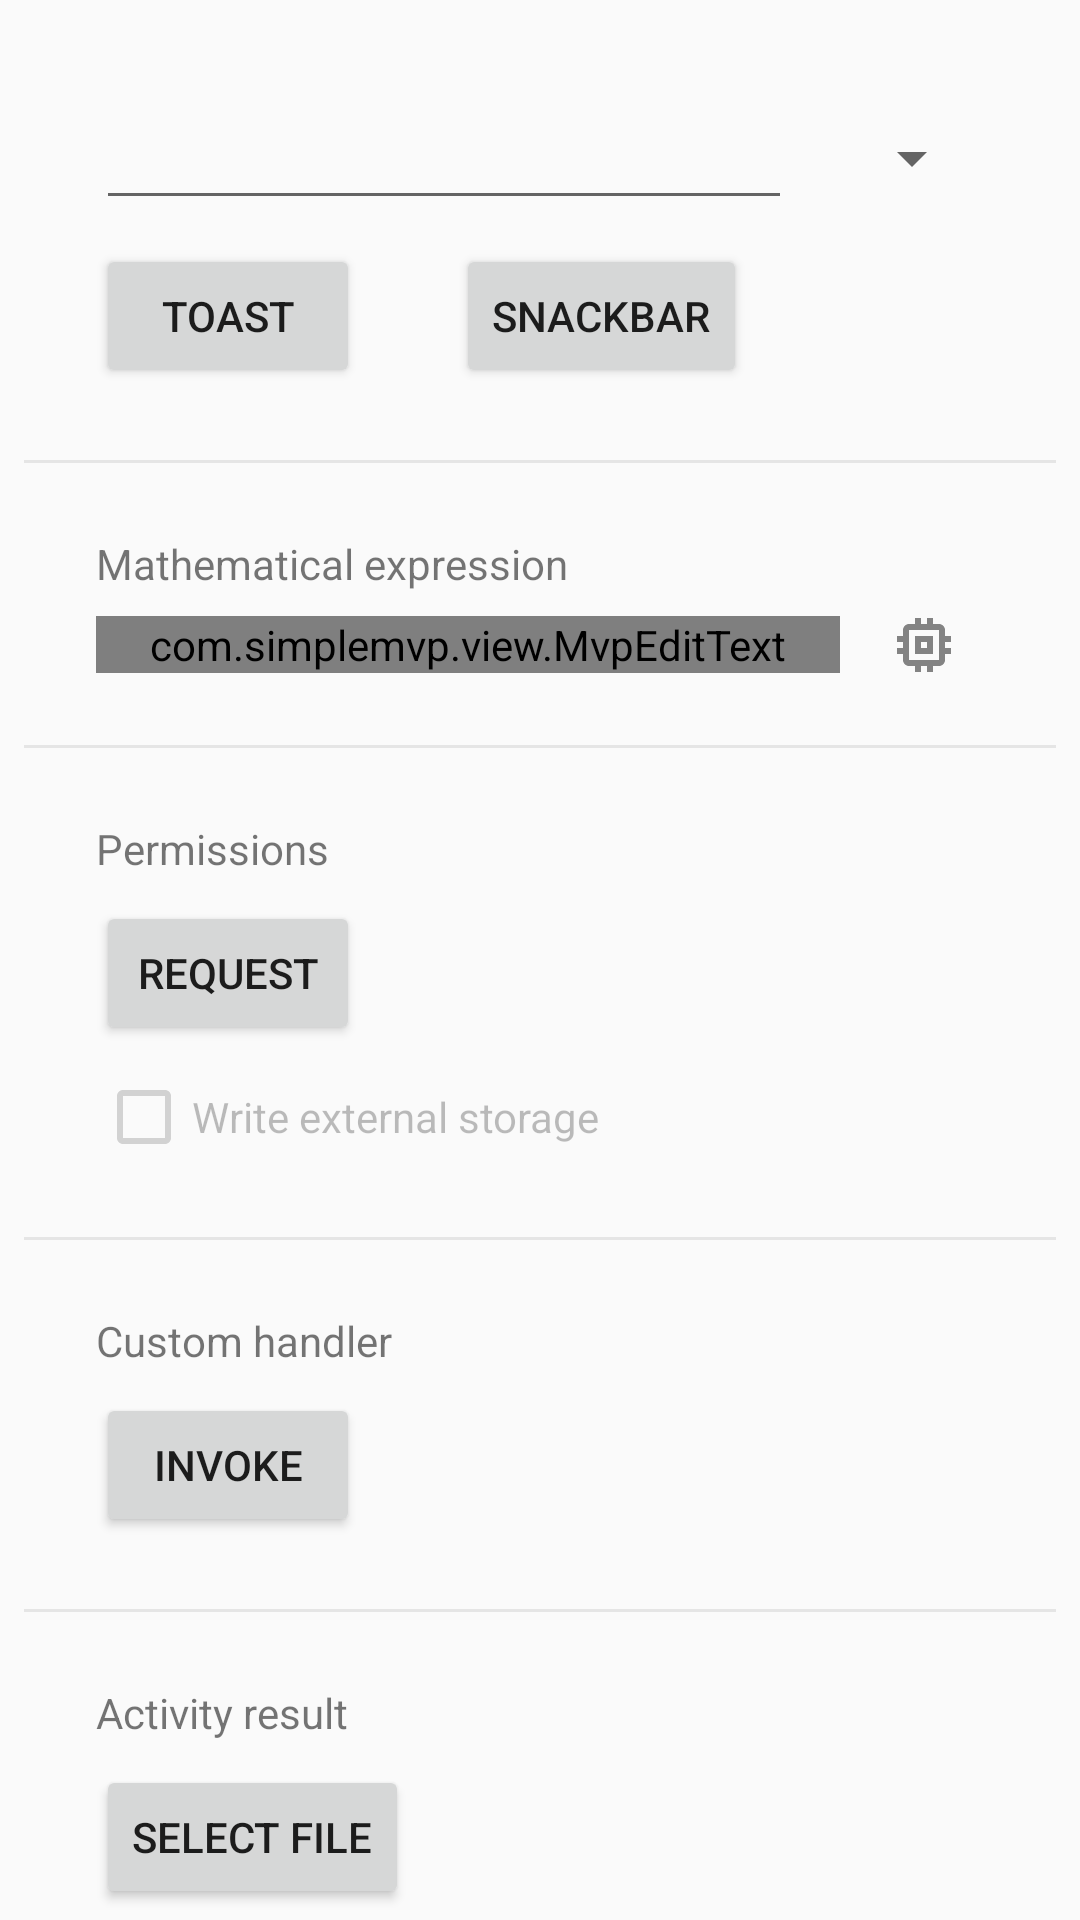

Icon click points for this 1080x1920 phone screenshot, format point (x, y):
chip: point (924, 645)
